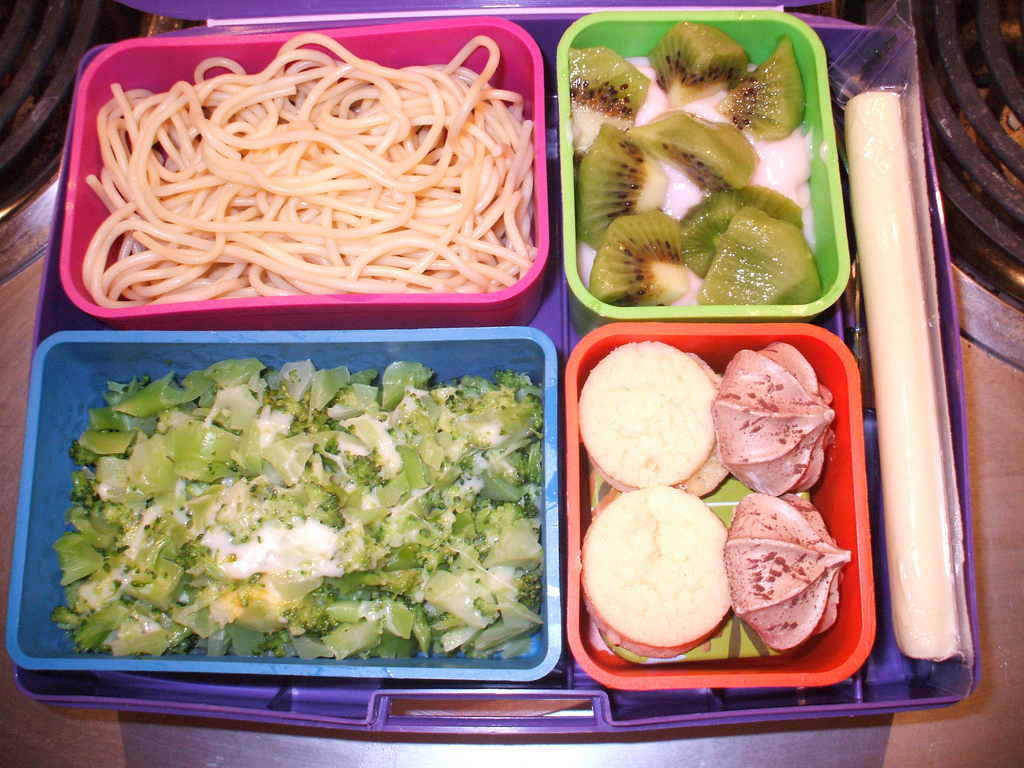chopped lettuce: (140, 402, 517, 638)
plain spaghetti: (96, 71, 517, 281)
